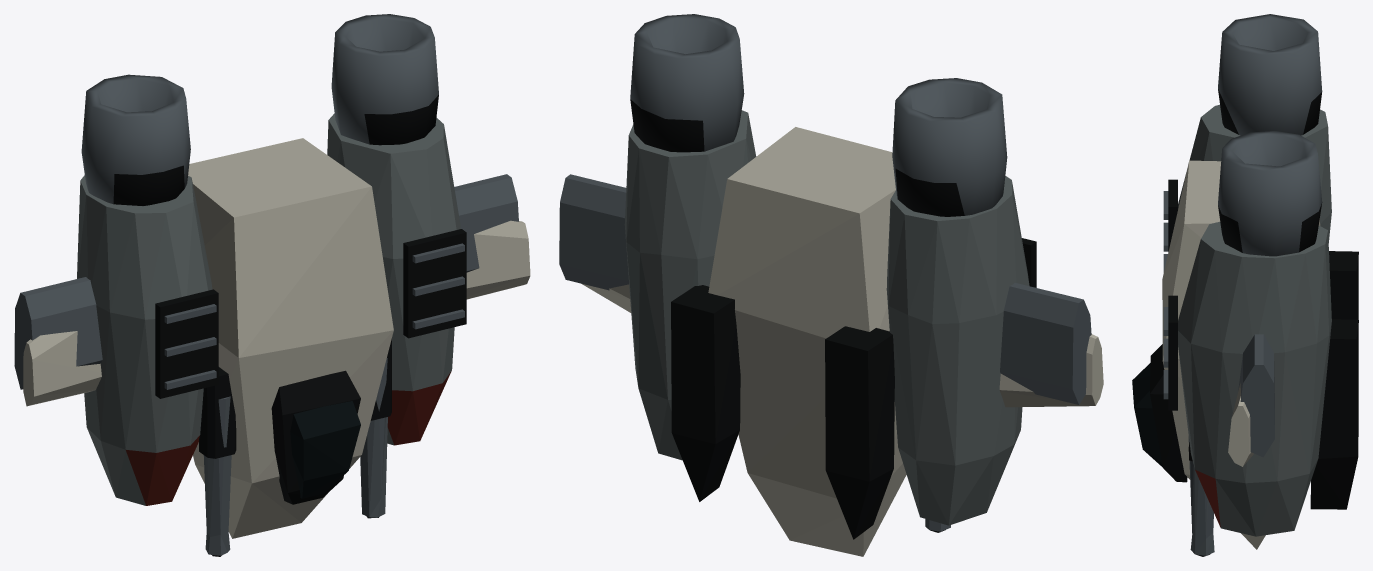
Rendered from enemigo_escarabajo_lod.obj.
3 renders of one model, left to right at view 1: azimuth 30°, elevation 25°; view 2: azimuth 150°, elevation 25°; view 3: azimuth 270°, elevation 25°, orthographic. The views are drawn at different scales.
Parts seen in each view (by area): view 1: enemigo_escarabajo_Habitaculo_LOD, enemigo_escarabajo_Gondola_1_LOD, enemigo_escarabajo_Gondola_-1_LOD, enemigo_escarabajo_Reactor_1_Tobera_LOD, enemigo_escarabajo_Reactor_-1_Tobera_LOD, enemigo_escarabajo_Travesano_LOD, enemigo_escarabajo_Cabina_Cristal_LOD, enemigo_escarabajo_Radiador_1_Hueco_LOD, enemigo_escarabajo_Radiador_-1_Hueco_LOD, enemigo_escarabajo_Cabina_Borde_LOD, enemigo_escarabajo_Ala_1_LOD, enemigo_escarabajo_Ala_-1_LOD (+4 smaller); view 2: enemigo_escarabajo_Habitaculo_LOD, enemigo_escarabajo_Gondola_1_LOD, enemigo_escarabajo_Gondola_-1_LOD, enemigo_escarabajo_Travesano_LOD, enemigo_escarabajo_Reactor_1_Tobera_LOD, enemigo_escarabajo_Reactor_-1_Tobera_LOD, enemigo_escarabajo_Contenedor_1_LOD, enemigo_escarabajo_Contenedor_-1_LOD, enemigo_escarabajo_Ala_1_LOD; view 3: enemigo_escarabajo_Gondola_-1_LOD, enemigo_escarabajo_Reactor_-1_Tobera_LOD, enemigo_escarabajo_Reactor_1_Tobera_LOD, enemigo_escarabajo_Contenedor_-1_LOD, enemigo_escarabajo_Habitaculo_LOD, enemigo_escarabajo_Travesano_LOD, enemigo_escarabajo_Gondola_1_LOD, enemigo_escarabajo_Cabina_Borde_LOD, enemigo_escarabajo_Contenedor_1_LOD, enemigo_escarabajo_Arma_-1_Canon_LOD, enemigo_escarabajo_Cabina_Cristal_LOD, enemigo_escarabajo_Ala_-1_LOD (+2 smaller).
Boxes of the visible parts, x1,y1,x2,y2 form: enemigo_escarabajo_Habitaculo_LOD: (188,138,393,538); enemigo_escarabajo_Gondola_1_LOD: (77,175,212,505); enemigo_escarabajo_Gondola_-1_LOD: (327,113,460,445); enemigo_escarabajo_Reactor_1_Tobera_LOD: (81,74,190,205); enemigo_escarabajo_Reactor_-1_Tobera_LOD: (331,14,438,145); enemigo_escarabajo_Travesano_LOD: (14,174,518,389); enemigo_escarabajo_Cabina_Cristal_LOD: (290,401,360,498); enemigo_escarabajo_Radiador_1_Hueco_LOD: (155,289,218,398); enemigo_escarabajo_Radiador_-1_Hueco_LOD: (403,229,466,338); enemigo_escarabajo_Cabina_Borde_LOD: (271,370,360,504); enemigo_escarabajo_Ala_1_LOD: (23,331,101,406); enemigo_escarabajo_Ala_-1_LOD: (466,220,530,299); enemigo_escarabajo_Habitaculo_LOD: (708,127,906,556); enemigo_escarabajo_Gondola_1_LOD: (886,176,1029,525); enemigo_escarabajo_Gondola_-1_LOD: (624,110,756,460); enemigo_escarabajo_Travesano_LOD: (559,174,1091,404); enemigo_escarabajo_Reactor_1_Tobera_LOD: (892,78,1007,216); enemigo_escarabajo_Reactor_-1_Tobera_LOD: (630,14,744,152); enemigo_escarabajo_Contenedor_1_LOD: (825,326,894,539); enemigo_escarabajo_Contenedor_-1_LOD: (671,285,740,501); enemigo_escarabajo_Ala_1_LOD: (999,334,1103,407); enemigo_escarabajo_Gondola_-1_LOD: (1178,221,1331,536); enemigo_escarabajo_Reactor_-1_Tobera_LOD: (1218,131,1322,256); enemigo_escarabajo_Reactor_1_Tobera_LOD: (1218,14,1322,135); enemigo_escarabajo_Contenedor_-1_LOD: (1310,319,1358,509); enemigo_escarabajo_Habitaculo_LOD: (1162,160,1320,549); enemigo_escarabajo_Travesano_LOD: (1238,334,1274,457); enemigo_escarabajo_Gondola_1_LOD: (1178,104,1331,242); enemigo_escarabajo_Cabina_Borde_LOD: (1150,344,1187,482); enemigo_escarabajo_Contenedor_1_LOD: (1329,251,1358,319); enemigo_escarabajo_Arma_-1_Canon_LOD: (1188,436,1214,555); enemigo_escarabajo_Cabina_Cristal_LOD: (1132,363,1163,467); enemigo_escarabajo_Ala_-1_LOD: (1228,383,1253,466).
Bounding box in the file's own units: 1.02 × 0.905 × 0.4213.
